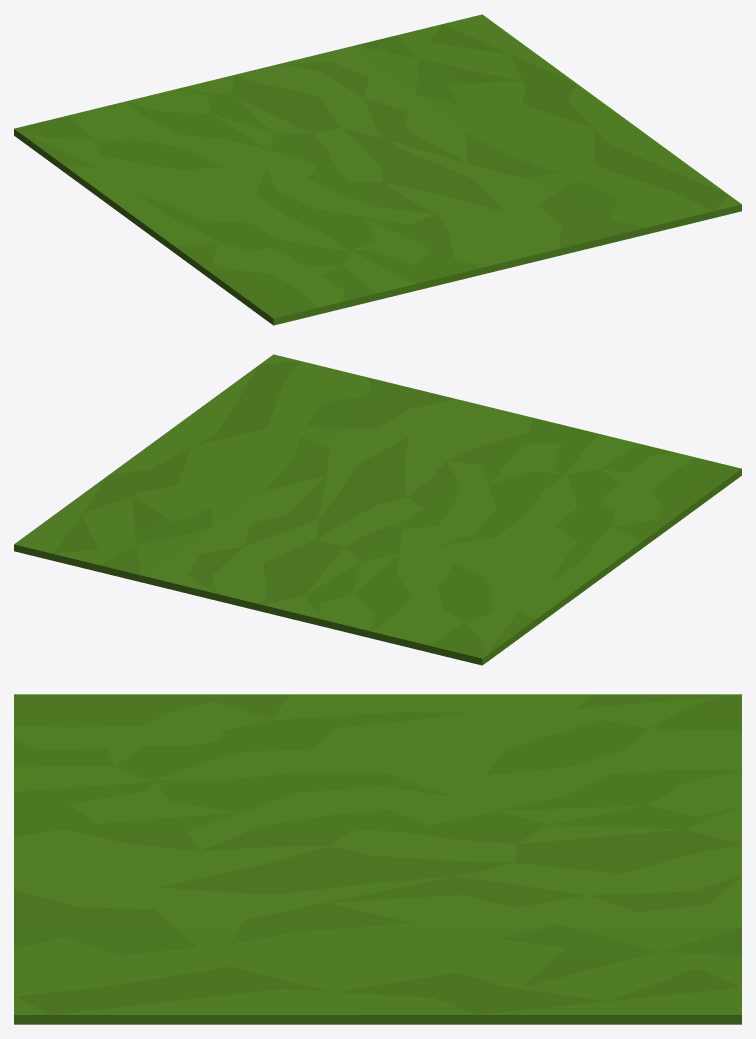
The model's file is grass land.fbx.
3 renders of one model, top to bottom at view 1: azimuth 30°, elevation 25°; view 2: azimuth 150°, elevation 25°; view 3: azimuth 270°, elevation 25°, orthographic. The views are drawn at different scales.
Visible parts, largest first — view 1: Cube.025; view 2: Cube.025; view 3: Cube.025.
Part boxes in pixels (box(x1,y1,x2,y2)): Cube.025: box(14, 14, 741, 325); Cube.025: box(14, 354, 741, 665); Cube.025: box(14, 694, 741, 1024).
Size of the model in its own units: 113 by 1.59 by 108.
Materials: 1 (1 with a texture image).
